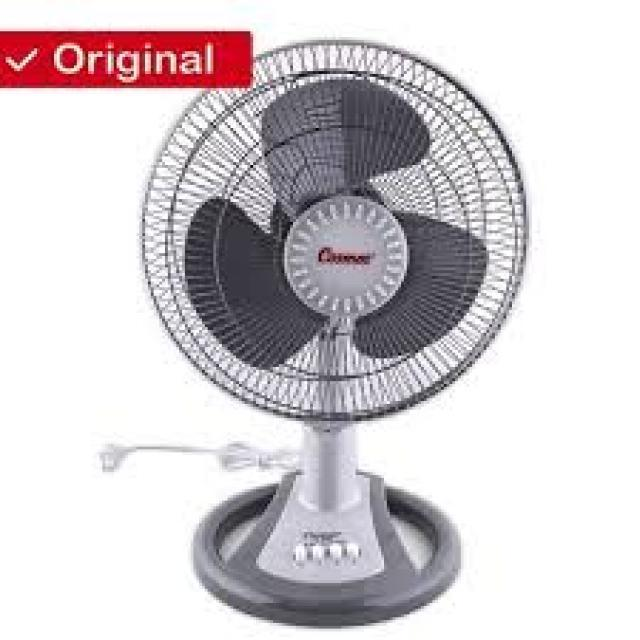fan: (125, 24, 536, 630)
